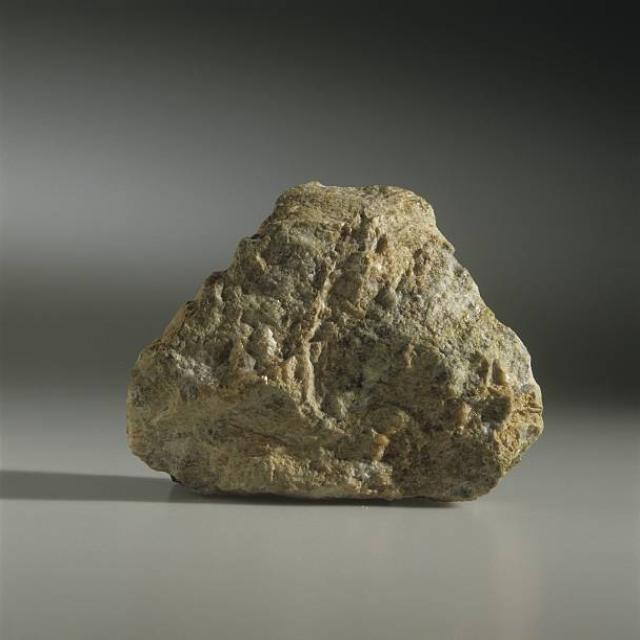Sedimentary: (114, 174, 563, 504)
